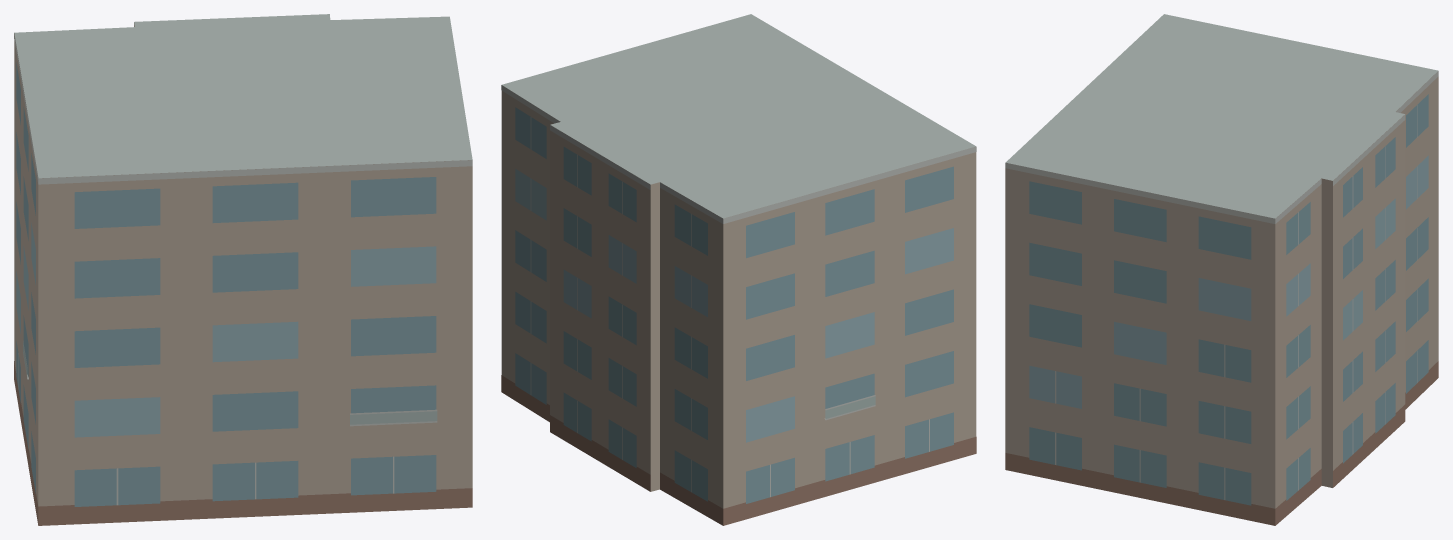
File: survey-upis-32885223.glb
3 renders of one model, left to right at view 1: azimuth 30°, elevation 25°; view 2: azimuth 150°, elevation 25°; view 3: azimuth 270°, elevation 25°, orthographic. The views are drawn at different scales.
Visible parts, largest first — view 1: survey-upis-32885223.tmp; view 2: survey-upis-32885223.tmp; view 3: survey-upis-32885223.tmp.
Part boxes in pixels (bbox=[...]): survey-upis-32885223.tmp: bbox=[14, 14, 472, 525]; survey-upis-32885223.tmp: bbox=[501, 14, 976, 525]; survey-upis-32885223.tmp: bbox=[1005, 14, 1438, 525].
Size of the model in its own units: 19.14 by 13.4 by 17.13.
